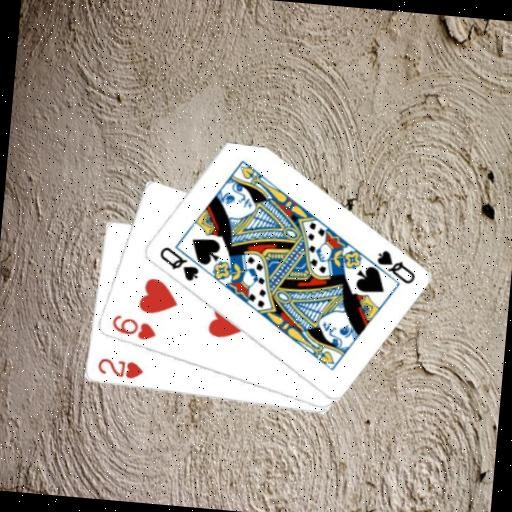2H: (94, 355, 146, 382)
6H: (108, 311, 159, 343)
QS: (154, 243, 202, 284), (371, 246, 419, 286)
